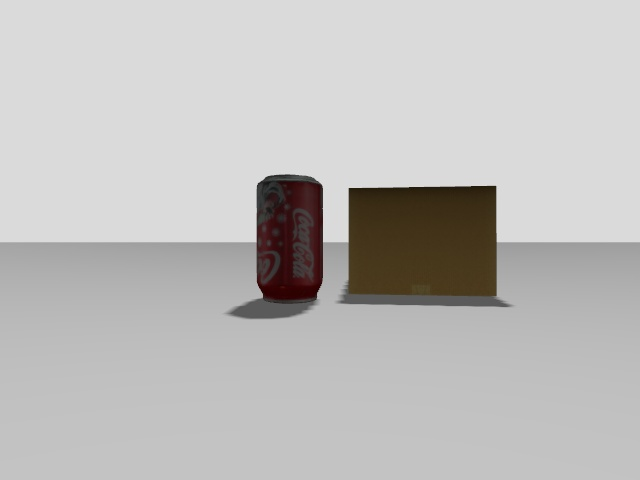canette: (257, 174, 322, 302)
carton: (348, 186, 497, 296)
